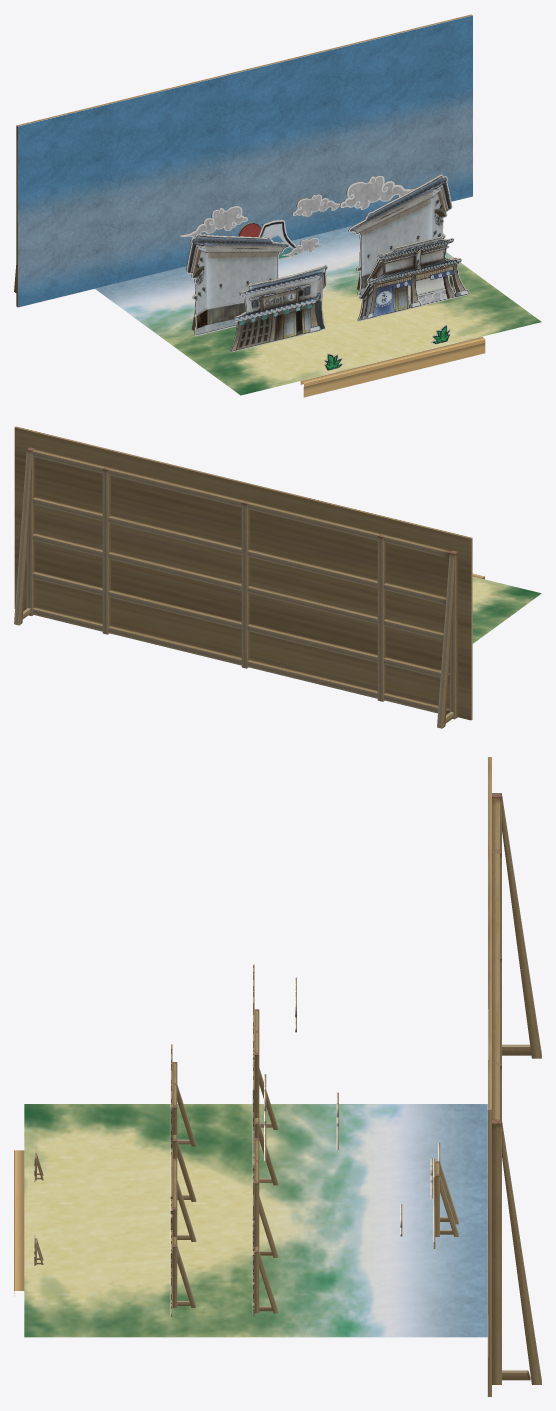
The model's file is tataite_bg.fbx.
3 views of the same model, one above another, from view 1: azimuth 30°, elevation 25°; view 2: azimuth 150°, elevation 25°; view 3: azimuth 270°, elevation 25° (orthographic). The views are drawn at different scales.
Parts seen in each view (by area): view 1: sky1, ground, ura_koya_r, toufuya, daizuya, ura_koya_l, stage_end, kumo_01, kumo_02, fuji, kumo_03; view 2: sky1, ground; view 3: ground, sky1, ura_koya_l, toufuya, ura_koya_r, stage_end, daizuya, fuji.
Part boxes in pixels (x1,y1,x2,y2): sky1: [14, 14, 472, 307]; ground: [95, 226, 541, 395]; ura_koya_r: [186, 234, 289, 336]; toufuya: [357, 235, 470, 321]; daizuya: [230, 265, 327, 352]; ura_koya_l: [348, 174, 452, 295]; stage_end: [300, 337, 485, 397]; kumo_01: [339, 175, 415, 209]; kumo_02: [179, 206, 247, 237]; fuji: [258, 219, 299, 260]; kumo_03: [292, 194, 340, 216]; sky1: [14, 426, 472, 728]; ground: [472, 576, 541, 643]; ground: [24, 1104, 487, 1337]; sky1: [487, 757, 541, 1396]; ura_koya_l: [252, 1130, 278, 1316]; toufuya: [170, 1148, 196, 1316]; ura_koya_r: [252, 964, 278, 1185]; stage_end: [14, 1150, 24, 1296]; daizuya: [170, 1044, 196, 1201]; fuji: [433, 1159, 458, 1248].
Size of the model in its own units: 895 by 367 by 567.
